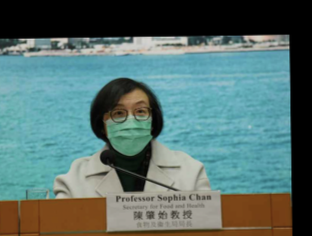with_mask: (102, 97, 154, 156)
